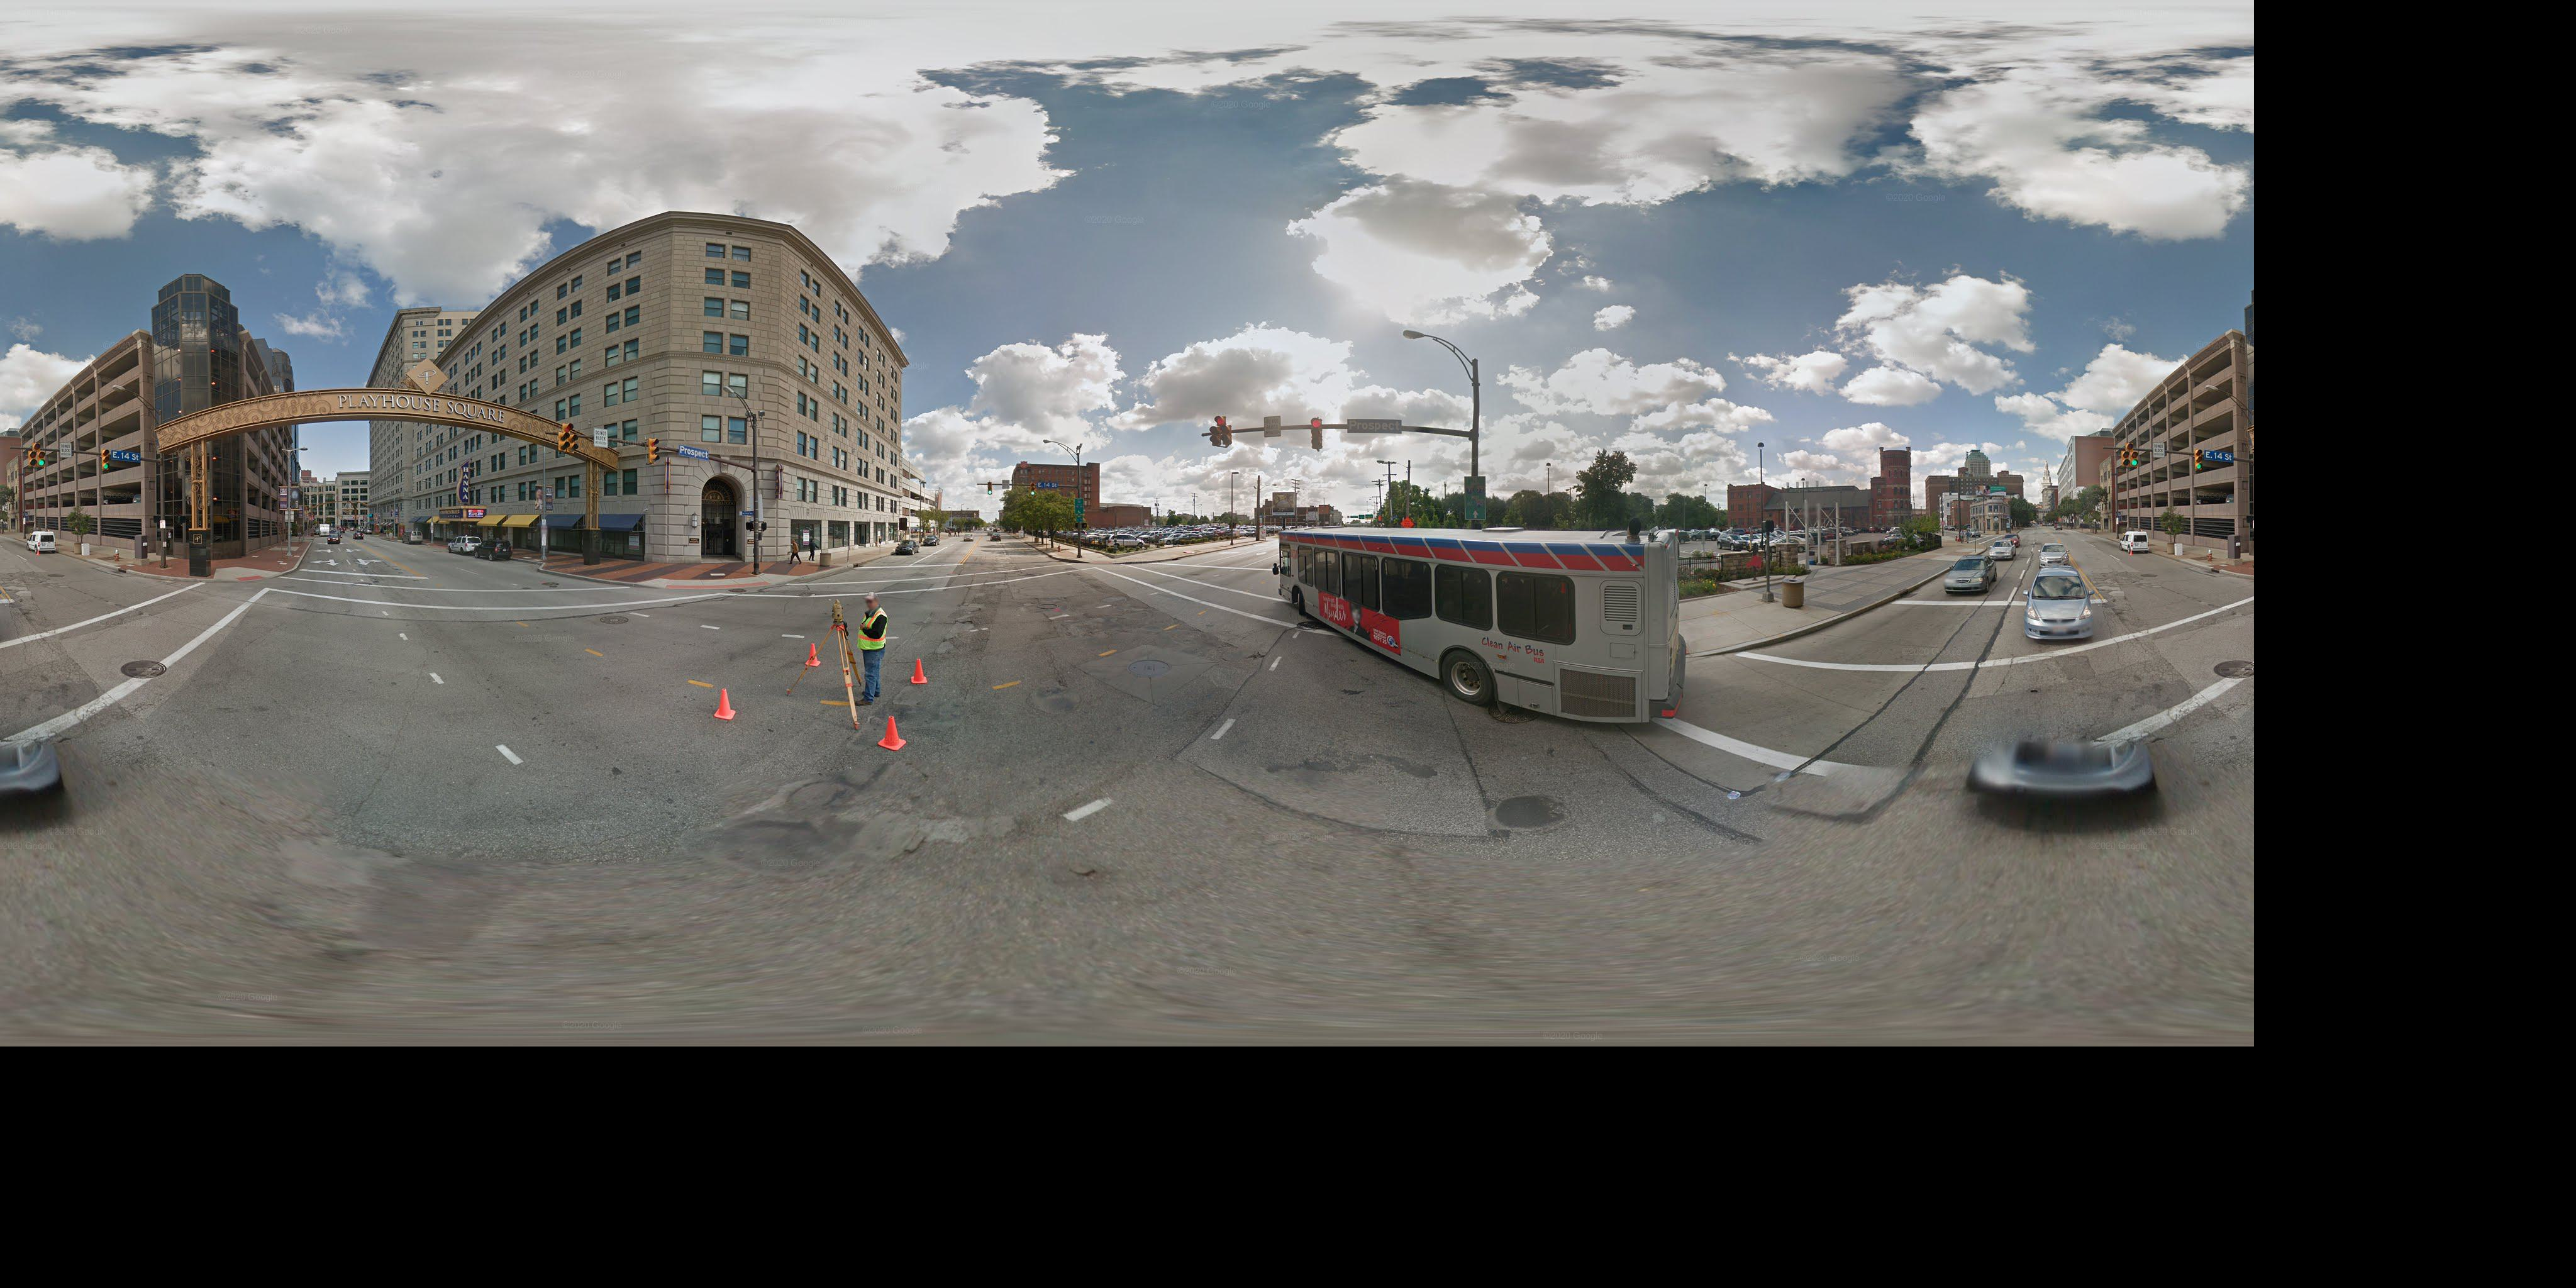Curb Ramp: (642, 565, 779, 603), (215, 563, 276, 593), (1081, 552, 1117, 570)
